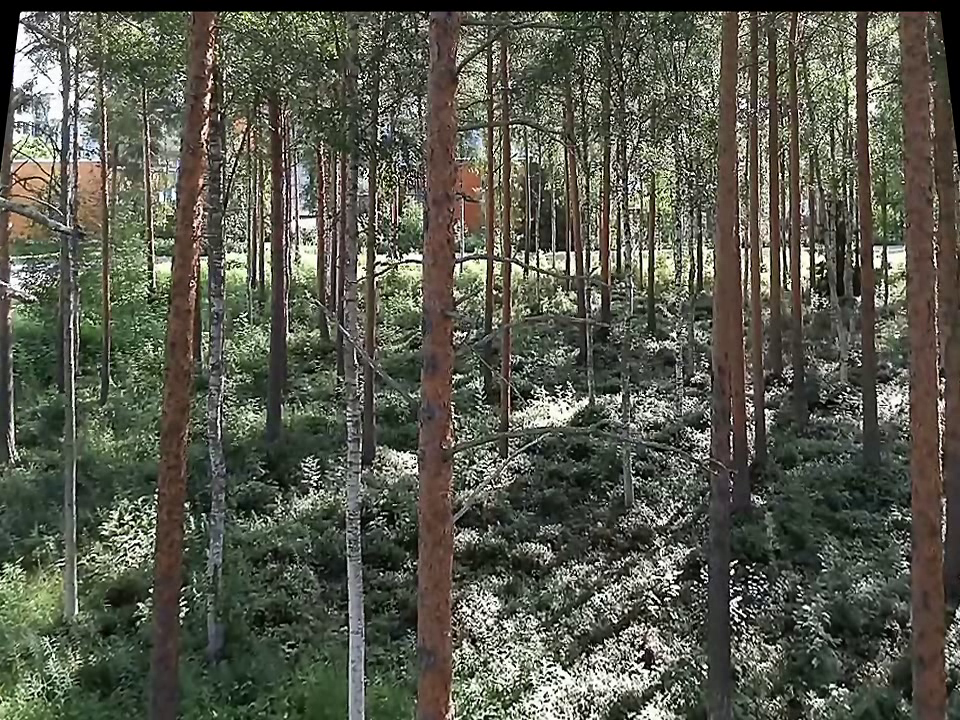branch: (456, 413, 727, 481), (457, 306, 612, 357), (460, 241, 619, 290), (460, 111, 582, 159)
trunk: (124, 38, 228, 708), (897, 12, 957, 713), (406, 16, 456, 708), (697, 22, 738, 710), (334, 26, 371, 716), (51, 71, 85, 618), (847, 23, 888, 462), (743, 16, 775, 471), (254, 80, 292, 450), (765, 18, 788, 384), (786, 19, 805, 403)
